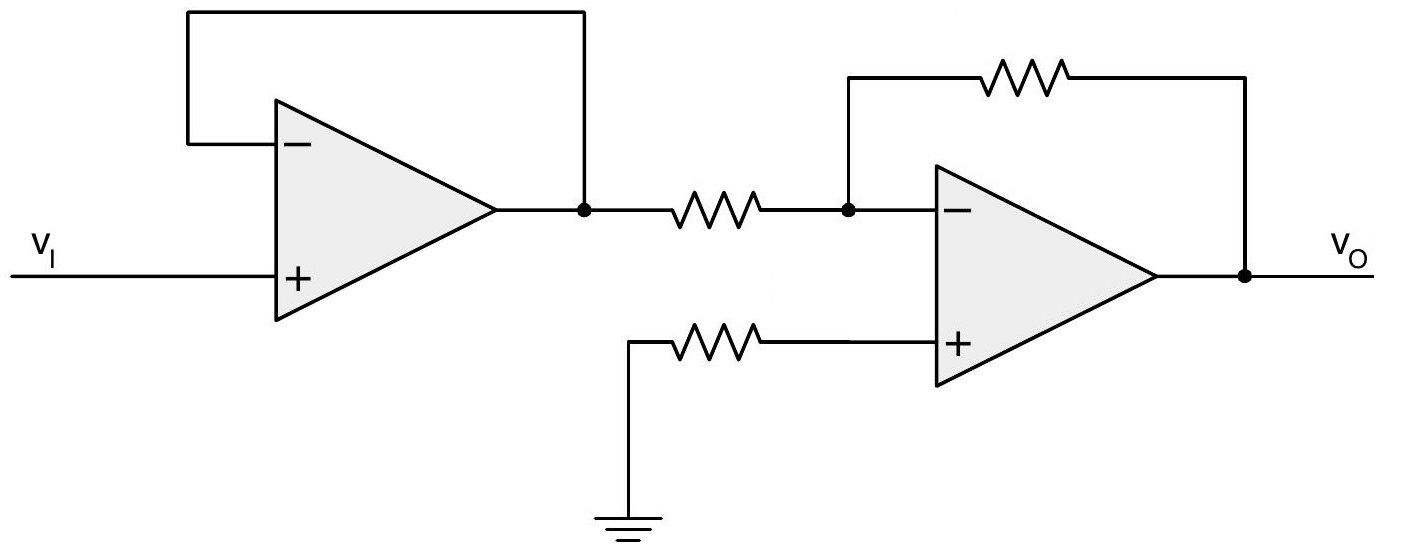gnd: (584, 503, 672, 547)
op: (258, 80, 511, 334), (917, 148, 1172, 400)
resistor: (966, 48, 1085, 107), (661, 312, 773, 372), (661, 179, 772, 237)
